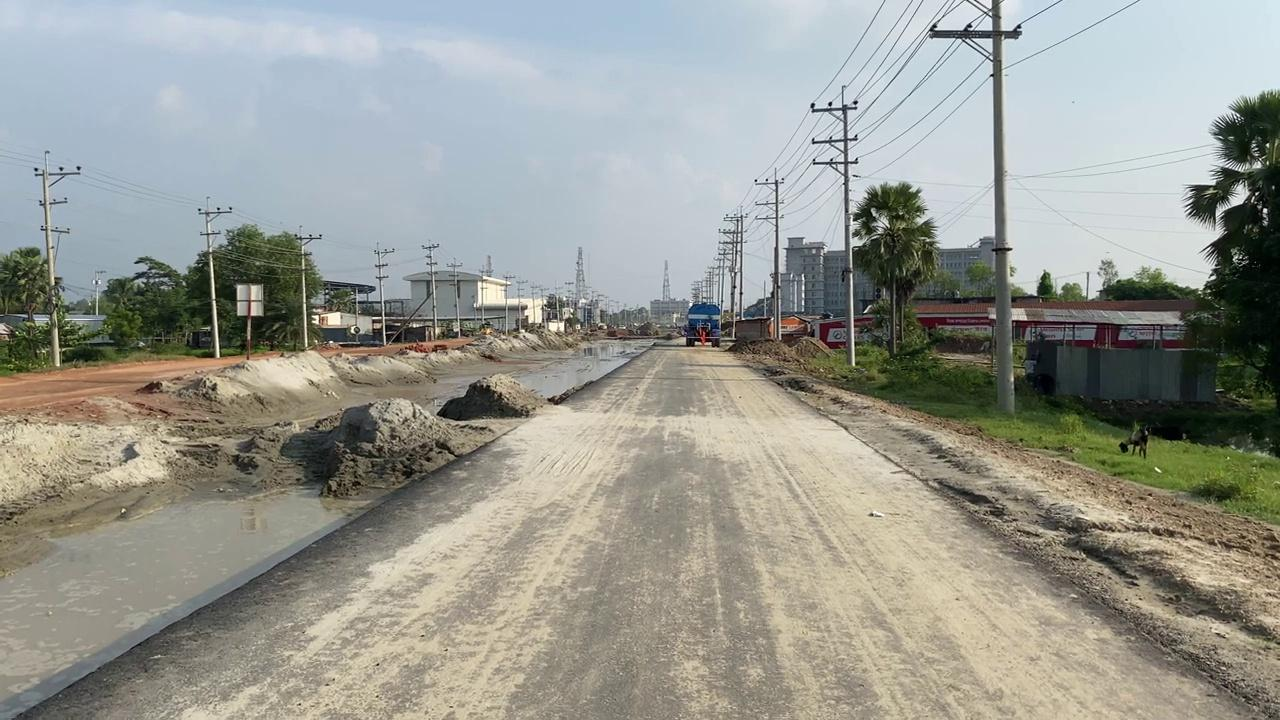Dog: (1126, 425, 1149, 458)
Pole: (809, 84, 860, 366), (989, 0, 1016, 414), (32, 149, 80, 367), (197, 197, 231, 358), (753, 171, 783, 341)
Rickshaw: (450, 360, 1106, 718)
Sidewalk: (0, 477, 375, 718)
Stuck-water: (698, 327, 706, 344)
Traffic-sign: (1179, 86, 1279, 409), (849, 179, 940, 356)
Tree: (683, 301, 722, 347), (767, 314, 809, 342)
Upstairs: (1024, 339, 1218, 403)
